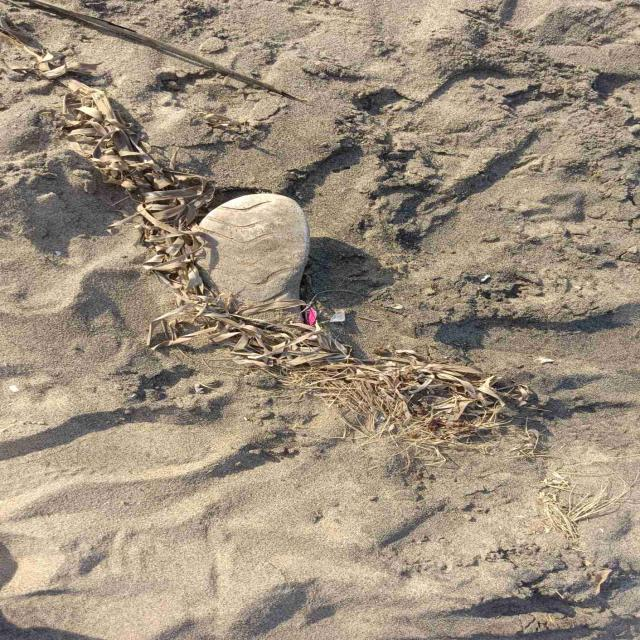rac_huu_co: (63, 80, 536, 457)
